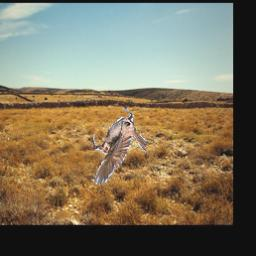Sparrow: (94, 108, 147, 185)
